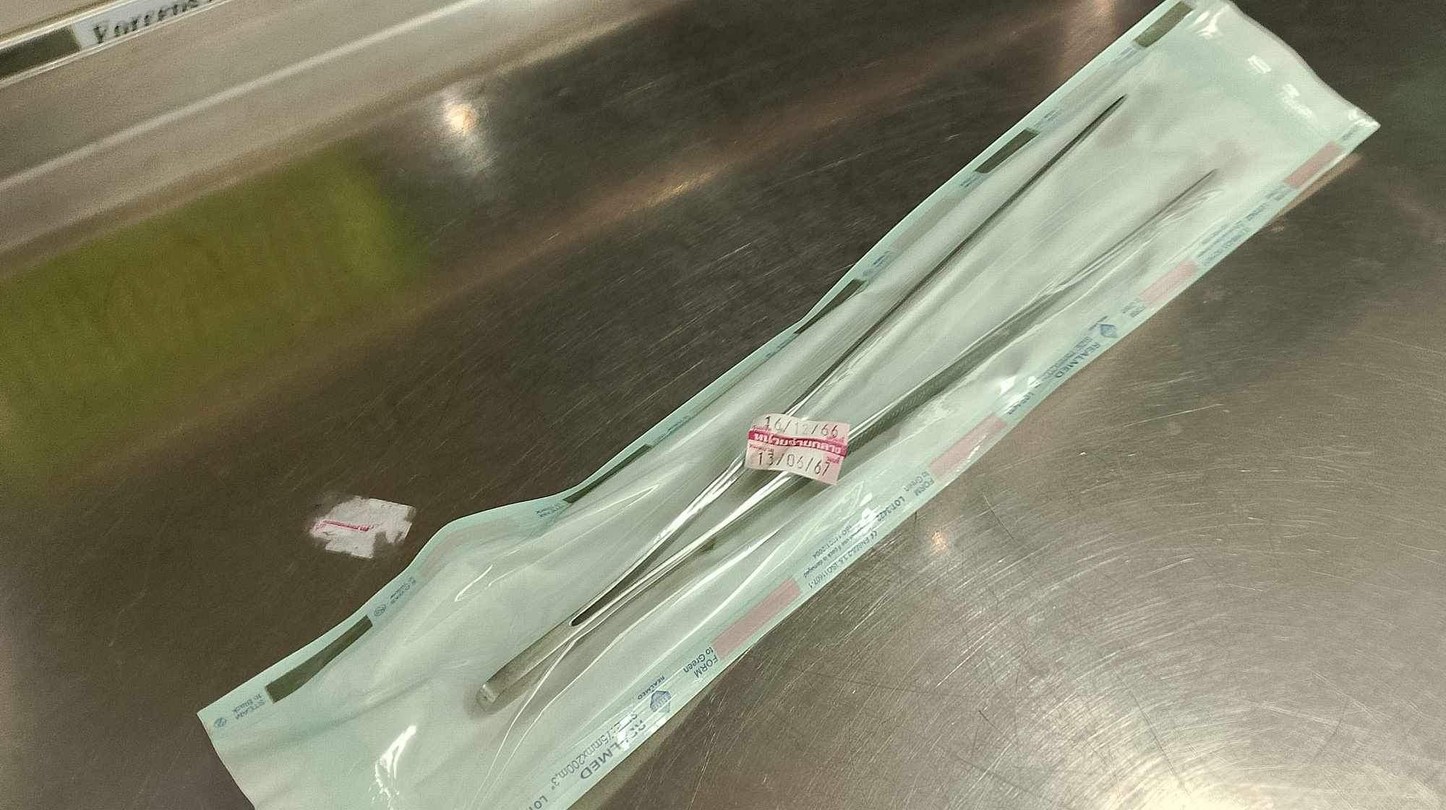General: (192, 2, 1384, 806)
Sharps: (473, 158, 1219, 713)
